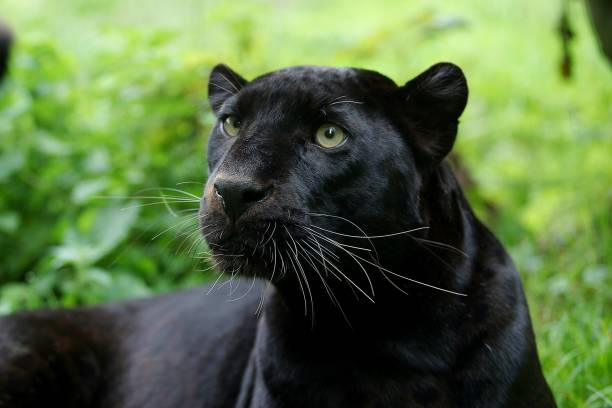panther: (188, 57, 480, 318)
